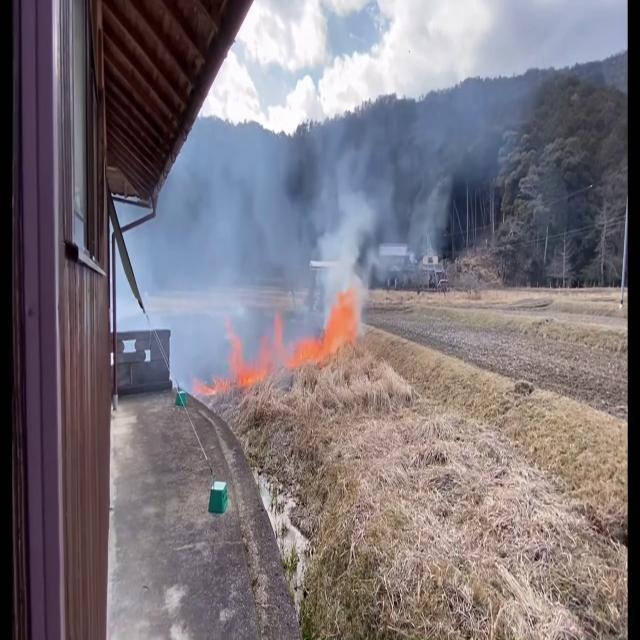Fire: (293, 282, 363, 372), (316, 280, 362, 368), (221, 320, 267, 398)
Smoke: (152, 54, 516, 397), (294, 43, 514, 291)
